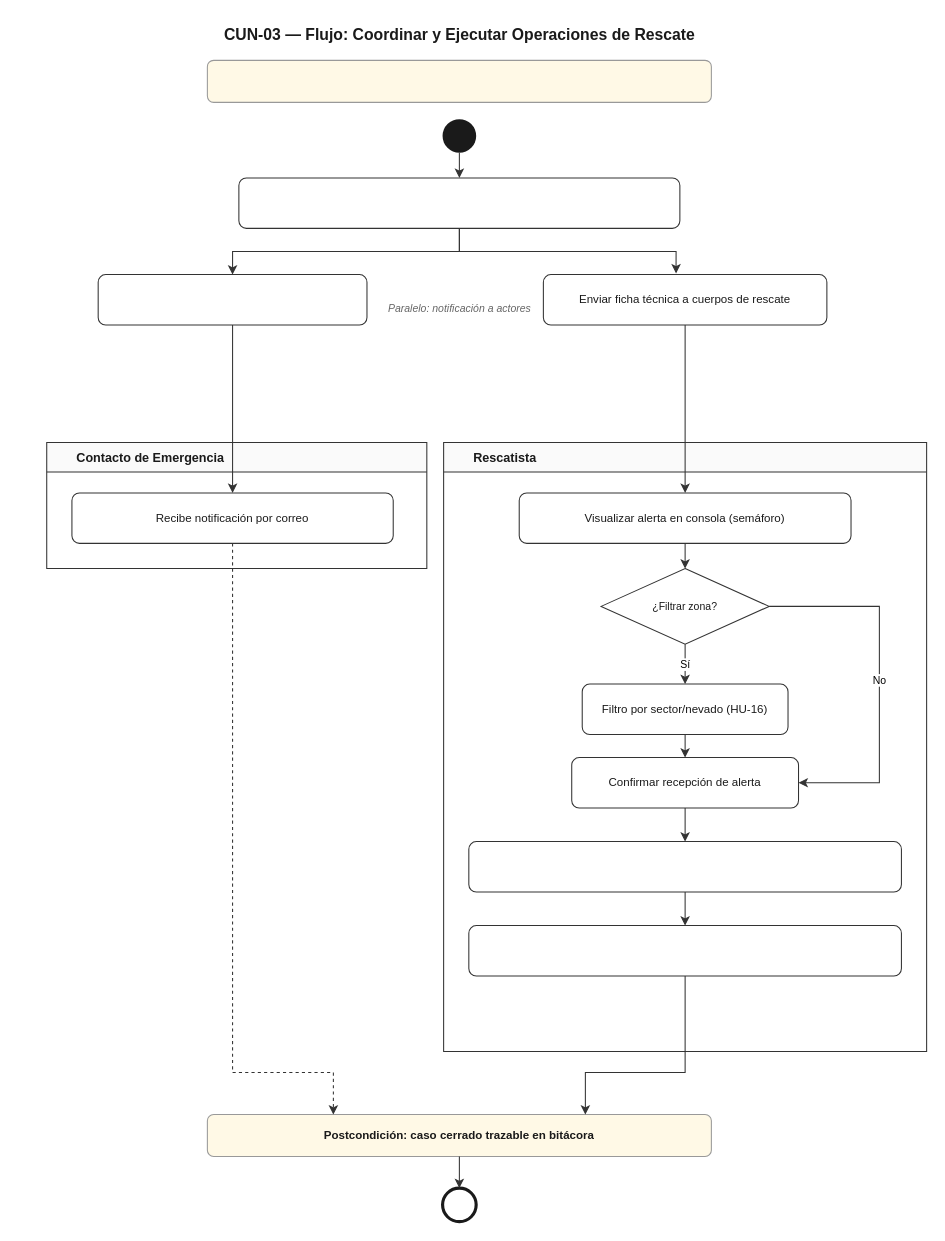
This 945x1241 diagram has some shape labels left out. The centre of each missing label's shape, as x and y in pixels:
Actualizar bitácora: Búsqueda → Localizado → Cerrado: the point at 684,950
Cambiar estado a ALERTA (automático): the point at 459,202
Consultar ficha (itinerario, médica si alerta): the point at 684,866
Enviar correo a contactos de emergencia: the point at 232,299
Precondición: plazo vencido sin check-in: the point at 458,80
